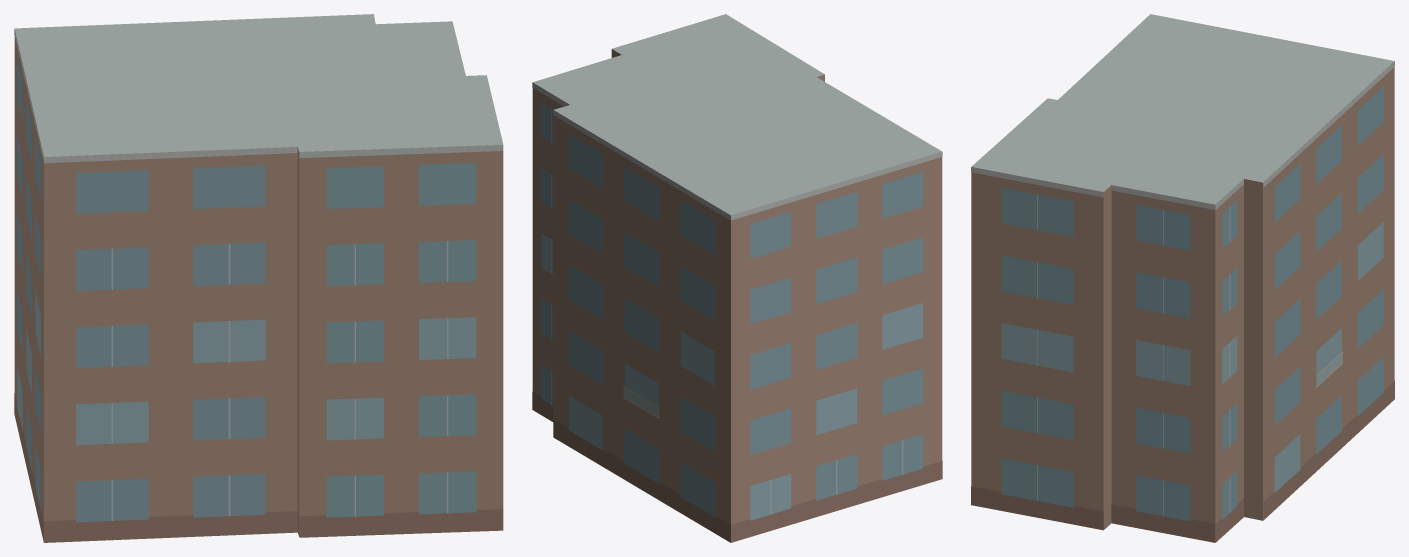
File: survey-upis-32960781.glb
3 renders of one model, left to right at view 1: azimuth 30°, elevation 25°; view 2: azimuth 150°, elevation 25°; view 3: azimuth 270°, elevation 25°, orthographic. The views are drawn at different scales.
Parts seen in each view (by area): view 1: survey-upis-32960781.tmp; view 2: survey-upis-32960781.tmp; view 3: survey-upis-32960781.tmp.
Boxes of the visible parts, left/top/right/bottom form: survey-upis-32960781.tmp: left=14, top=14, right=503, bottom=542; survey-upis-32960781.tmp: left=532, top=14, right=942, bottom=542; survey-upis-32960781.tmp: left=971, top=14, right=1394, bottom=542.
Bounding box in the file's own units: 18.45 × 15.25 × 17.32.
